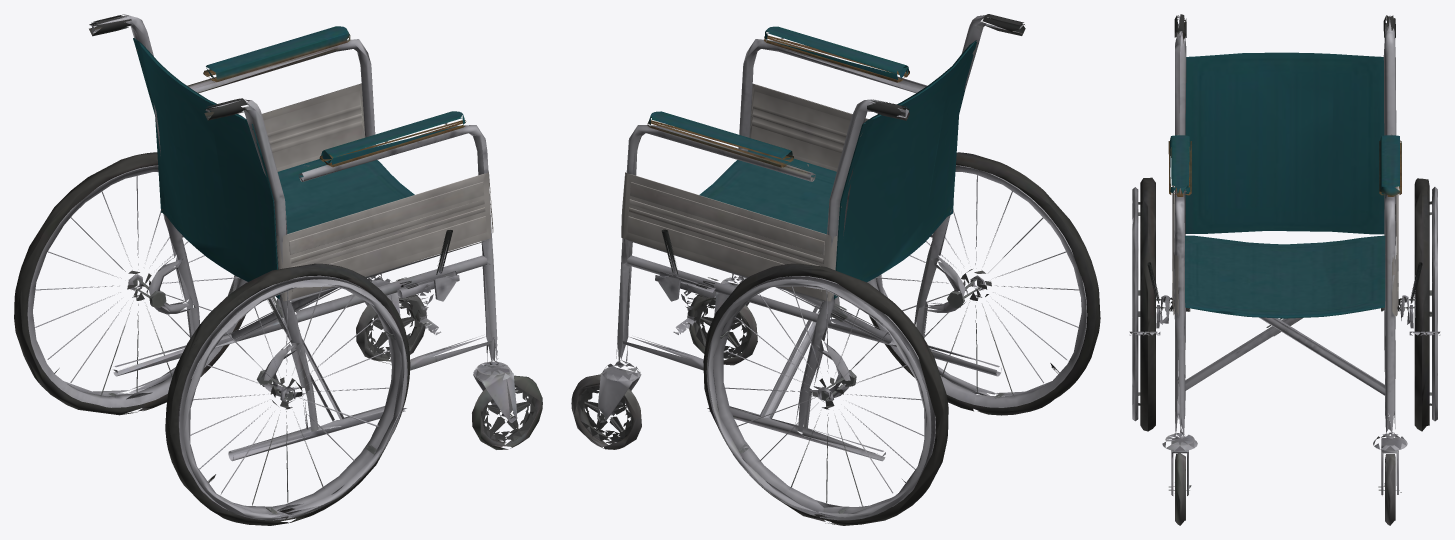
The model's file is rolstoel.glb.
3 renders of one model, left to right at view 1: azimuth 30°, elevation 25°; view 2: azimuth 150°, elevation 25°; view 3: azimuth 270°, elevation 25°, orthographic. The views are drawn at different scales.
Bounding box in the file's own units: 0.8874 × 0.9 × 0.6724.
1 material, 1 textured.
